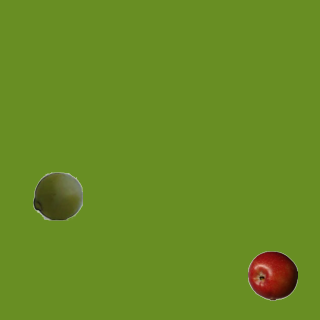Apple Braeburn: (247, 250, 297, 300)
Grape White 4: (32, 170, 82, 220)
